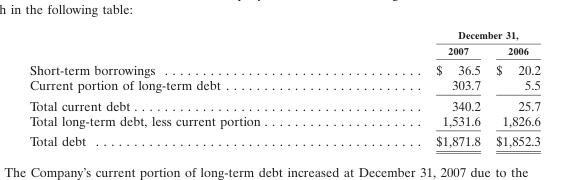table: (29, 28, 539, 148)
table column: (29, 28, 347, 148), (347, 28, 487, 148), (487, 28, 539, 148)
table column header: (29, 28, 539, 58)
table row: (29, 58, 539, 77), (29, 77, 539, 95), (29, 112, 539, 130), (29, 130, 539, 148), (29, 95, 539, 112), (29, 42, 539, 58), (29, 28, 539, 42)
table spanning cell: (347, 28, 539, 42)
